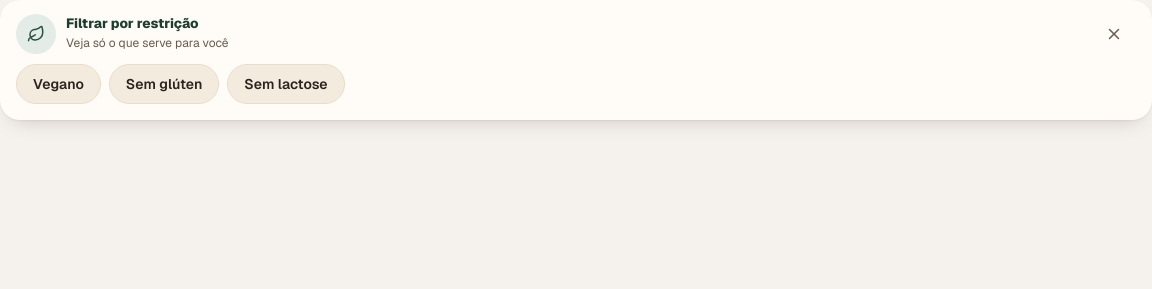
Test: filtrar › 'Sem lactose' mostra só quem declarou, e nunca item sem informação
Step 1. Click the button "Sem lactose" → (286, 84), box [227,64,344,104]
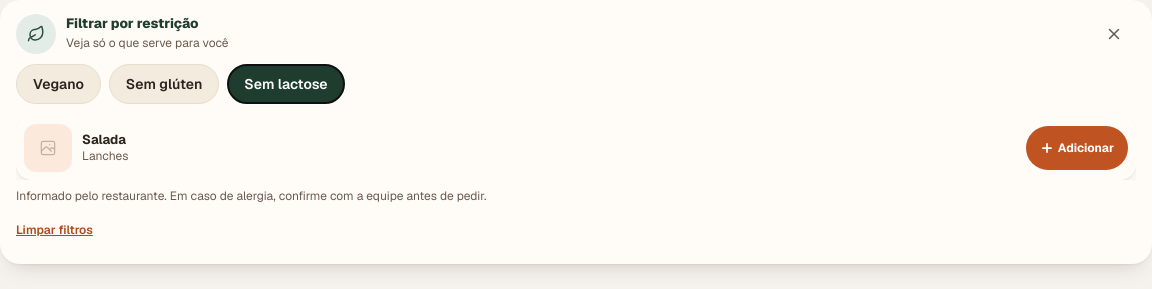
expect the text "Salada" is shown: met, box [82,131,126,148]
